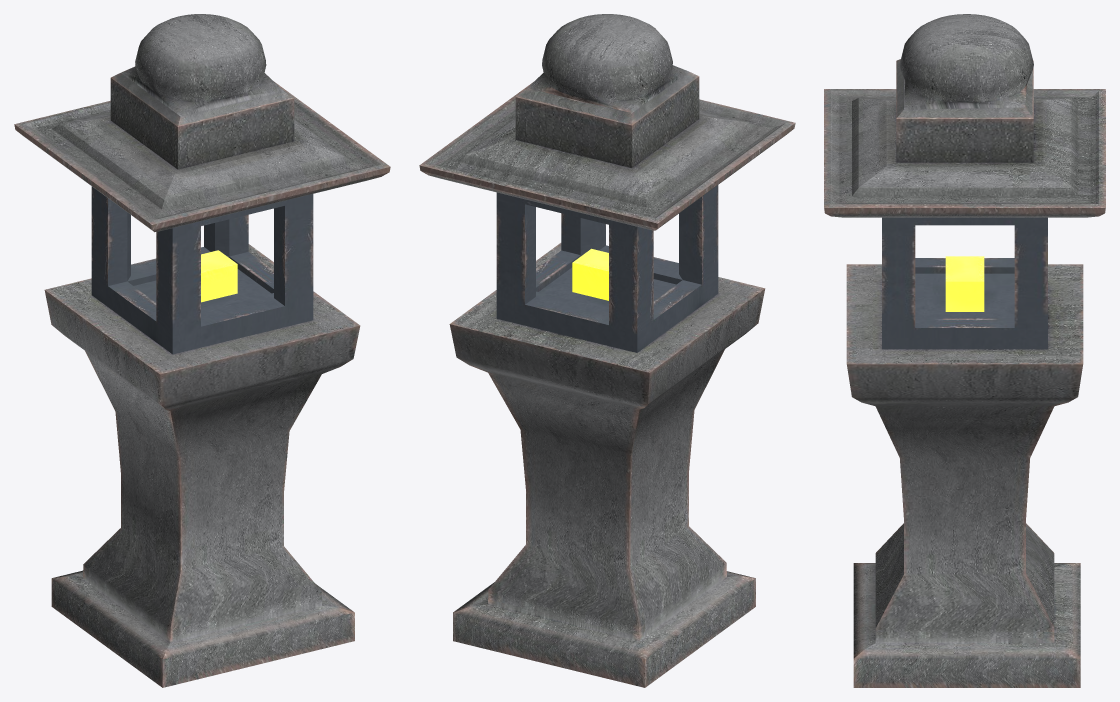
3 views of the same model, side by side, from view 1: azimuth 30°, elevation 25°; view 2: azimuth 150°, elevation 25°; view 3: azimuth 270°, elevation 25° (orthographic). The views are drawn at different scales.
Visible parts, largest first — view 1: lamp; view 2: lamp; view 3: lamp.
Part boxes in pixels (x1,y1,x2,y2): lamp: [14, 14, 390, 687]; lamp: [419, 14, 795, 687]; lamp: [824, 14, 1105, 687].
Size of the model in its own units: 5.29 by 12.67 by 5.29.
1 material, 1 textured.
